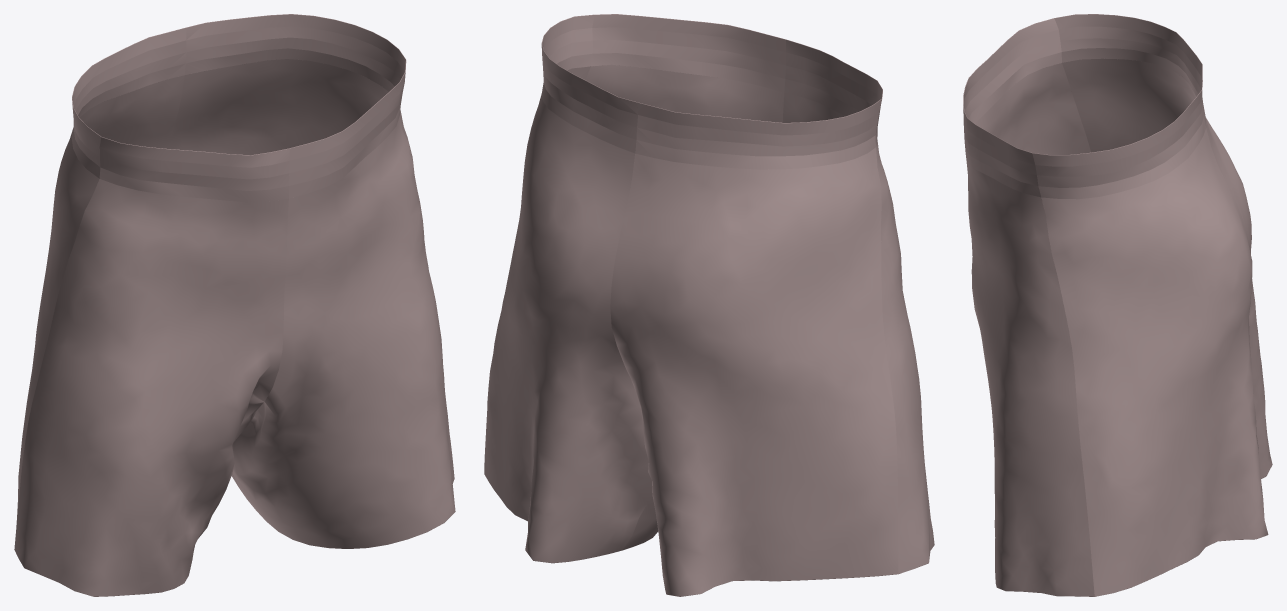
File: shortsMale.glb
The picture shows the model from 3 angles, left to right: view 1: azimuth 30°, elevation 25°; view 2: azimuth 150°, elevation 25°; view 3: azimuth 270°, elevation 25°; orthographic projection. The views are drawn at different scales.
Visible parts, largest first — view 1: shortsMale; view 2: shortsMale; view 3: shortsMale.
Boxes of the visible parts, x1=… form: shortsMale: x1=14, y1=14, x2=455, y2=596; shortsMale: x1=484, y1=14, x2=934, y2=596; shortsMale: x1=963, y1=14, x2=1272, y2=596.
Size of the model in its own units: 4.53 by 4.88 by 2.98.
1 material, 1 textured.
